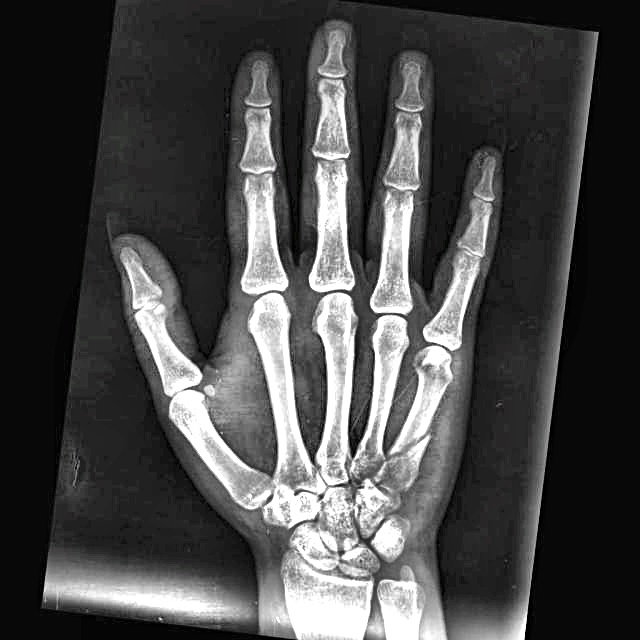Oblique Displaced: (376, 417, 450, 491)
